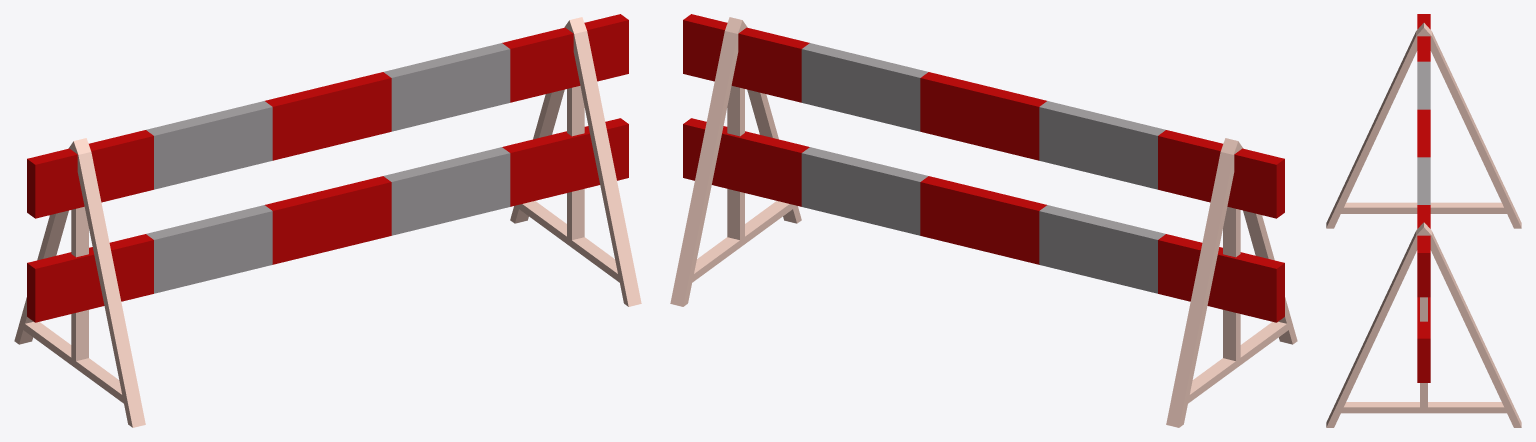
File: valla.glb
The picture shows the model from 3 angles, left to right: view 1: azimuth 30°, elevation 25°; view 2: azimuth 150°, elevation 25°; view 3: azimuth 270°, elevation 25°; orthographic projection. The views are drawn at different scales.
Visible parts, largest first — view 1: verkeershek1; view 2: verkeershek1; view 3: verkeershek1.
Part boxes in pixels (x1=…): verkeershek1: x1=14, y1=14, x2=641, y2=427; verkeershek1: x1=670, y1=14, x2=1297, y2=427; verkeershek1: x1=1326, y1=14, x2=1521, y2=427.
Size of the model in its own units: 4.18 by 1.64 by 1.45.
